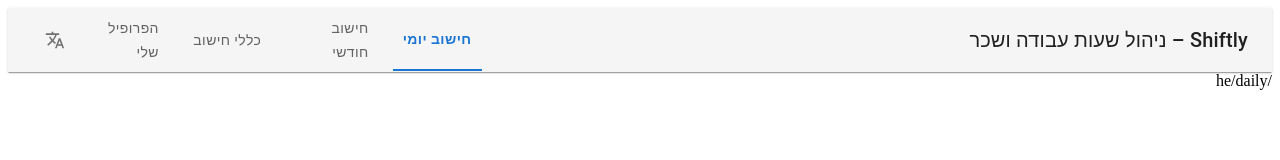
Test: ViewSwitcher › Language toggle › keeps the page when toggling from rtl at /he/daily
Click the button named "Switch to English".
click(55, 40)  # box 40,25 -> 70,55
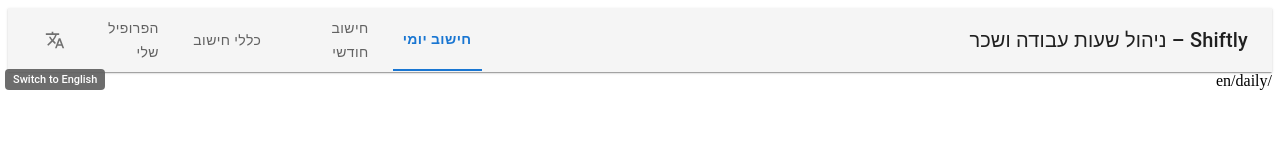
Now the text with test id "location" reads "/en/daily", box 1216,72 -> 1272,89
